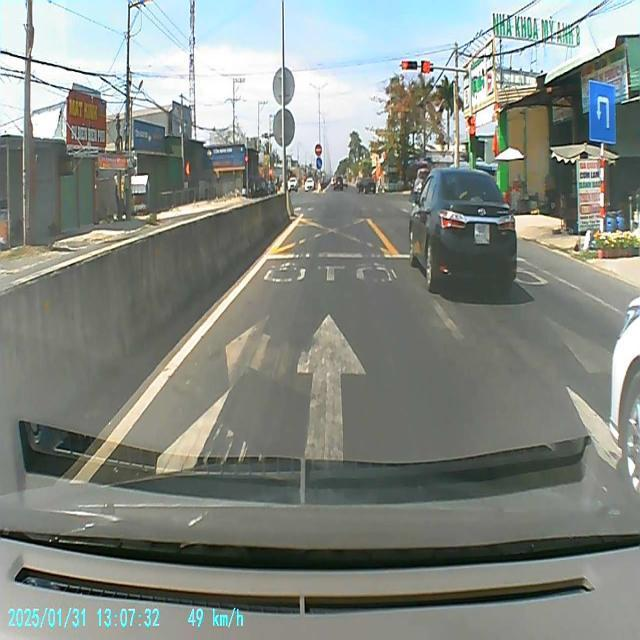102-cam-di-nguoc-chieu: (314, 143, 322, 156)
302a-huong-phai-di-vong-chuong-ngai-vat-1: (314, 156, 322, 169)
